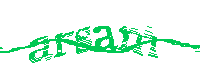a: (27, 35, 53, 65), (94, 24, 116, 51)
m: (120, 25, 160, 60)
r: (53, 28, 74, 58)
s: (73, 25, 94, 57)
